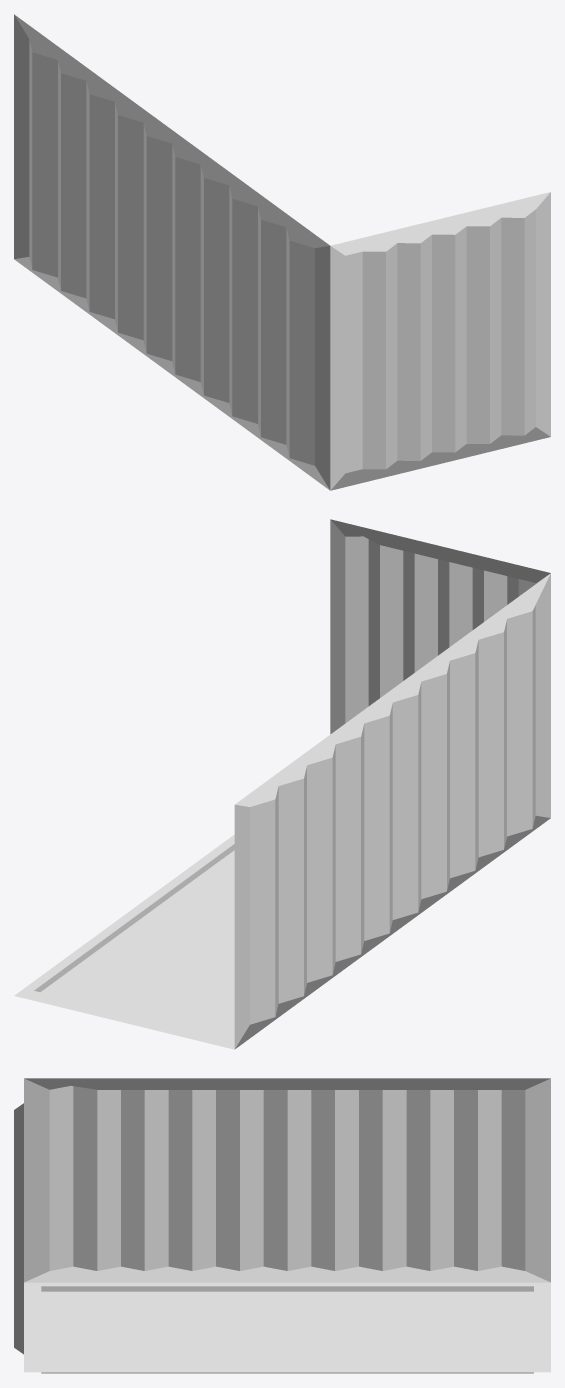
Rendered from shipping.glb.
The picture shows the model from 3 angles, top to bottom: view 1: azimuth 30°, elevation 25°; view 2: azimuth 150°, elevation 25°; view 3: azimuth 270°, elevation 25°; orthographic projection. The views are drawn at different scales.
Visible parts, largest first — view 1: Plane; view 2: Plane; view 3: Plane.
Part boxes in pixels (x1,y1,x2,y2): Plane: (14, 14, 550, 490); Plane: (14, 519, 550, 1049); Plane: (14, 1078, 550, 1373).
Bounding box in the file's own units: 2.56 × 2.66 × 6.18.
1 material, 1 textured.
